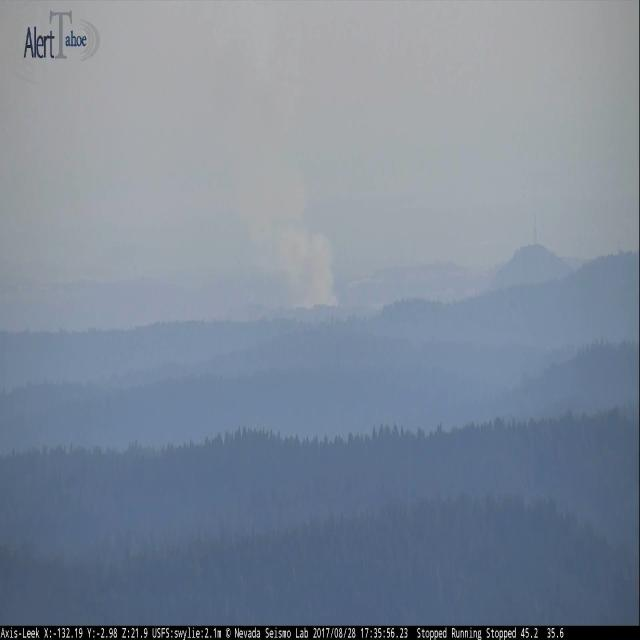smoke: (240, 144, 338, 306)
